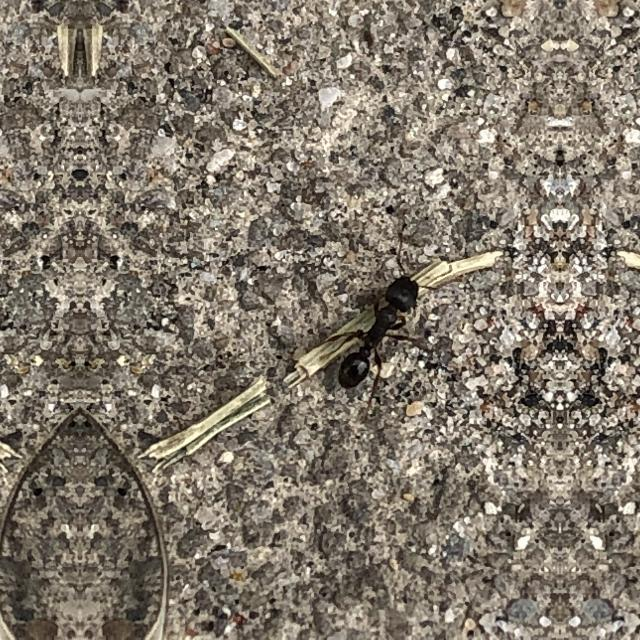Tetramorium: (308, 250, 464, 410)
